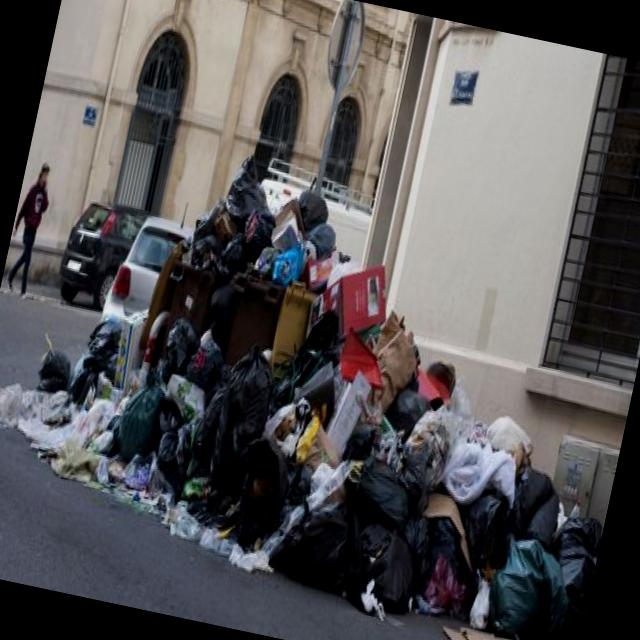garbage: (0, 115, 622, 640)
